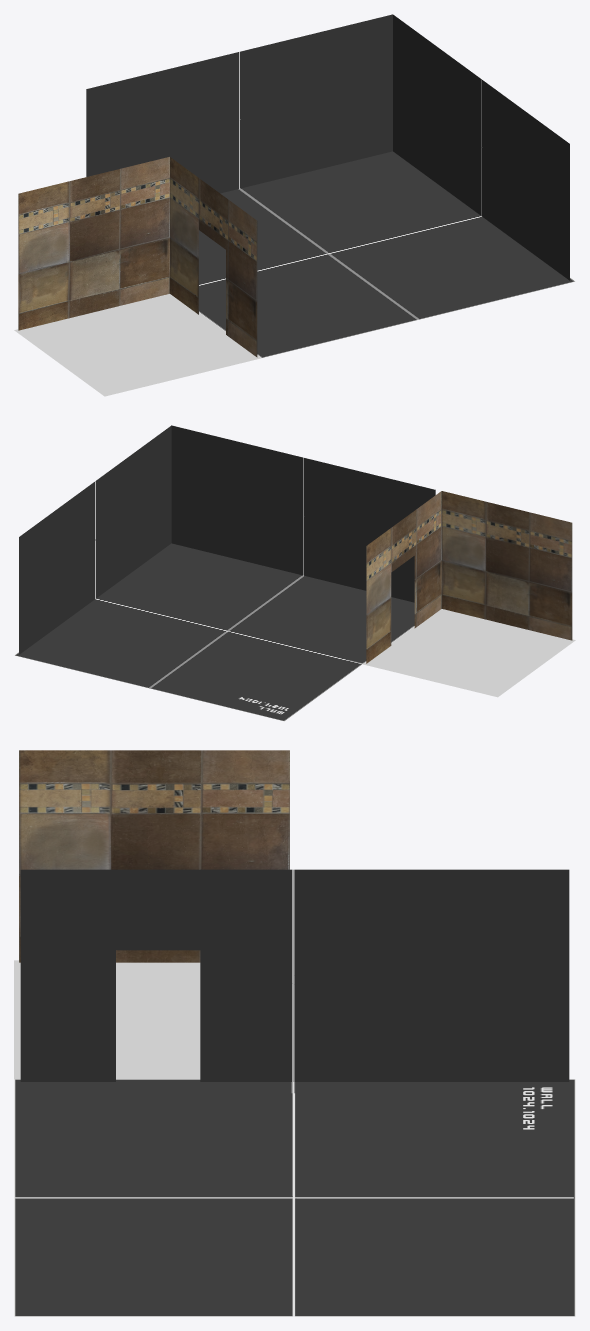
Rendered from break_room.gltf.
3 renders of one model, top to bottom at view 1: azimuth 30°, elevation 25°; view 2: azimuth 150°, elevation 25°; view 3: azimuth 270°, elevation 25°, orthographic. The views are drawn at different scales.
Visible parts, largest first — view 1: LoungeInnerWall-col, LoungeFloor, BathroomInnerWall-col, BathroomFloor; view 2: LoungeInnerWall-col, LoungeFloor, BathroomInnerWall-col, BathroomFloor; view 3: LoungeFloor, LoungeInnerWall-col, BathroomInnerWall-col, BathroomFloor.
Part boxes in pixels (x1,y1,x2,y2): LoungeInnerWall-col: [86, 14, 569, 280]; LoungeFloor: [199, 151, 575, 357]; BathroomInnerWall-col: [18, 157, 257, 357]; BathroomFloor: [14, 294, 261, 396]; LoungeInnerWall-col: [19, 425, 435, 654]; LoungeFloor: [14, 543, 414, 721]; BathroomInnerWall-col: [366, 491, 572, 663]; BathroomFloor: [363, 609, 575, 697]; LoungeFloor: [14, 1079, 575, 1316]; LoungeInnerWall-col: [20, 869, 569, 1081]; BathroomInnerWall-col: [19, 750, 289, 962]; BathroomFloor: [14, 960, 200, 1079].
Bounding box in the file's own units: 18 × 5 × 12.
Materials: 4 (3 with a texture image).
